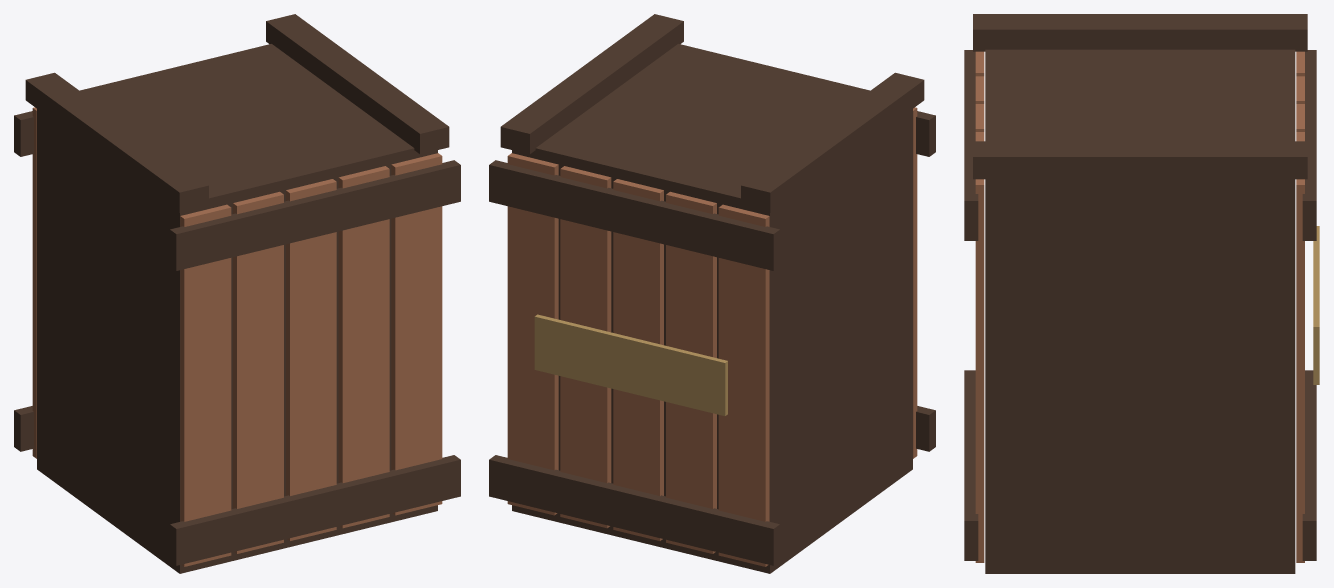
File: LP_Temporary_CrateNW.fbx
3 views of the same model, side by side, from view 1: azimuth 30°, elevation 25°; view 2: azimuth 150°, elevation 25°; view 3: azimuth 270°, elevation 25° (orthographic). The views are drawn at different scales.
Visible parts, largest first — view 1: Walnut, Terracotta; view 2: Walnut, Terracotta, AgedBrass; view 3: Walnut, Terracotta, AgedBrass.
Boxes of the visible parts, box(x1,y1,x2,y2) form: Walnut: box(14, 14, 460, 573); Terracotta: box(32, 107, 442, 566); Walnut: box(489, 14, 935, 573); Terracotta: box(507, 107, 917, 566); AgedBrass: box(534, 314, 727, 415); Walnut: box(964, 14, 1316, 573); Terracotta: box(975, 51, 1304, 562); AgedBrass: box(1313, 226, 1319, 384).
Size of the model in its own units: 100 by 130 by 99.7.
